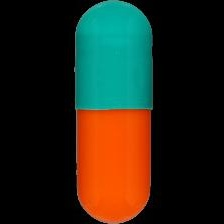0093-8741: (0, 0, 224, 224)
